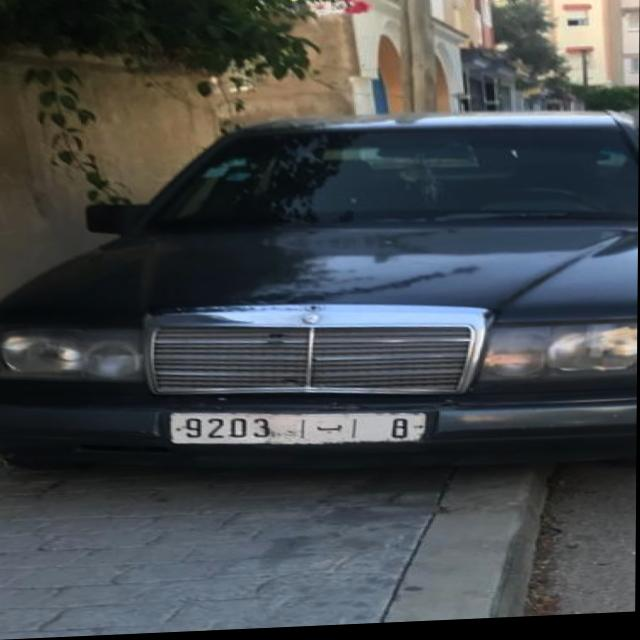License-Plate: (171, 414, 423, 448)
